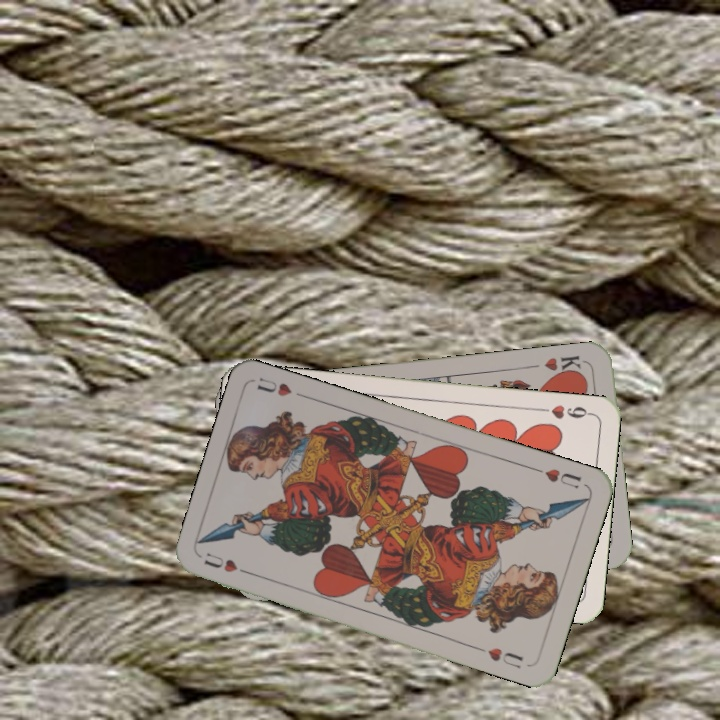H9: (536, 401, 595, 422)
HK: (541, 352, 585, 380)
HU: (200, 549, 255, 578), (530, 463, 584, 492)
